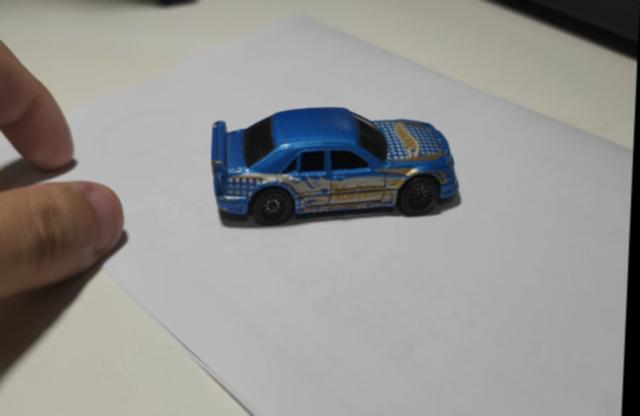04_MERZEDES: (211, 107, 464, 230)
